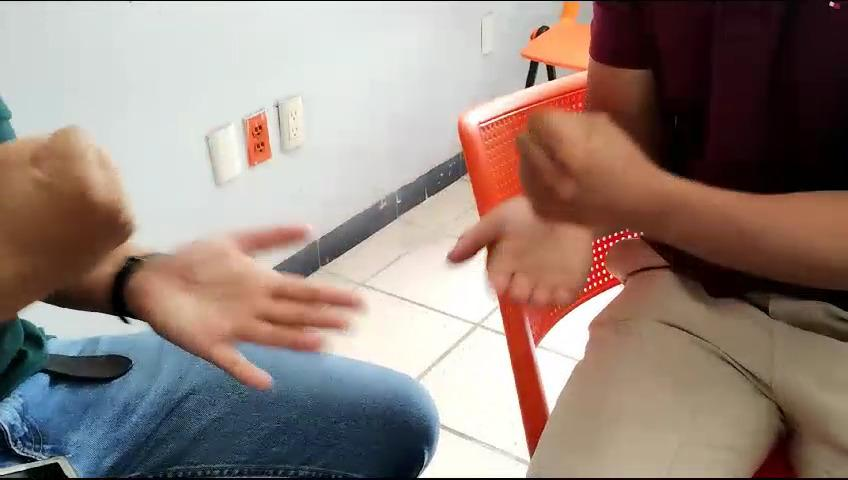Paper: (131, 213, 392, 396)
Stone: (0, 113, 141, 333), (504, 100, 672, 248)
